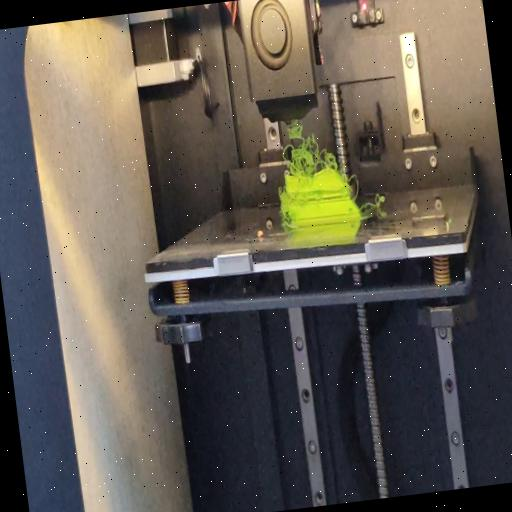spaghetti: (281, 113, 338, 178), (358, 189, 386, 215), (350, 170, 360, 199), (279, 217, 292, 229)
